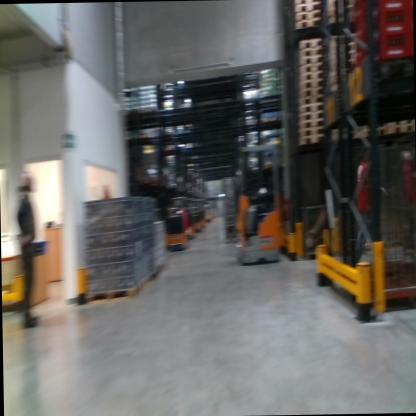forklift: (225, 87, 283, 272)
